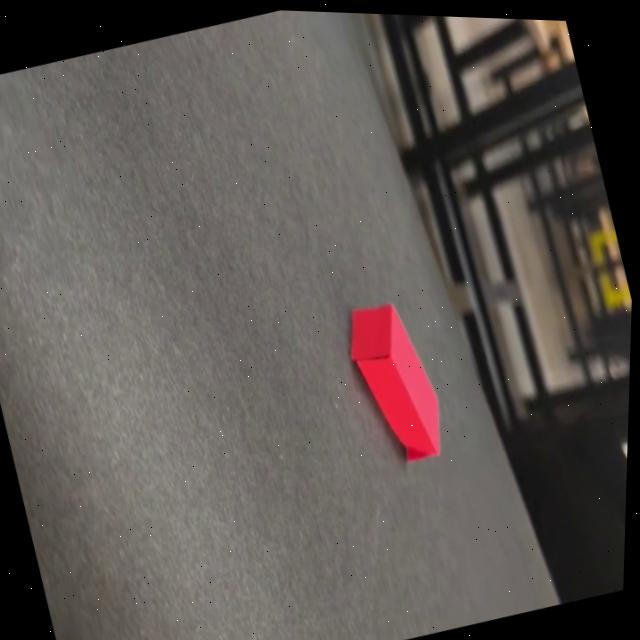red block: (334, 291, 456, 473)
